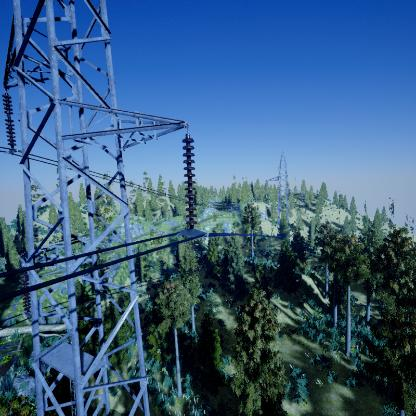insulator: (181, 134, 200, 229), (1, 93, 19, 152)
tower: (261, 148, 304, 235)
